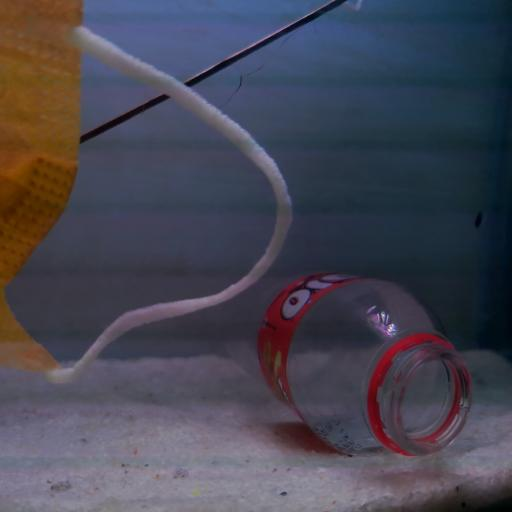mask: (2, 0, 294, 387)
plastic_bottle: (186, 257, 473, 480)
